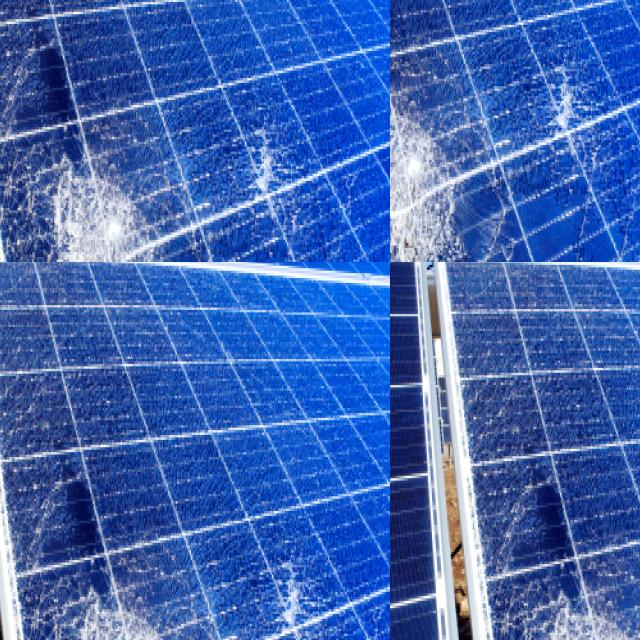bird: (548, 37, 611, 163), (390, 220, 442, 262)
panel: (0, 91, 259, 262), (275, 0, 390, 144)
